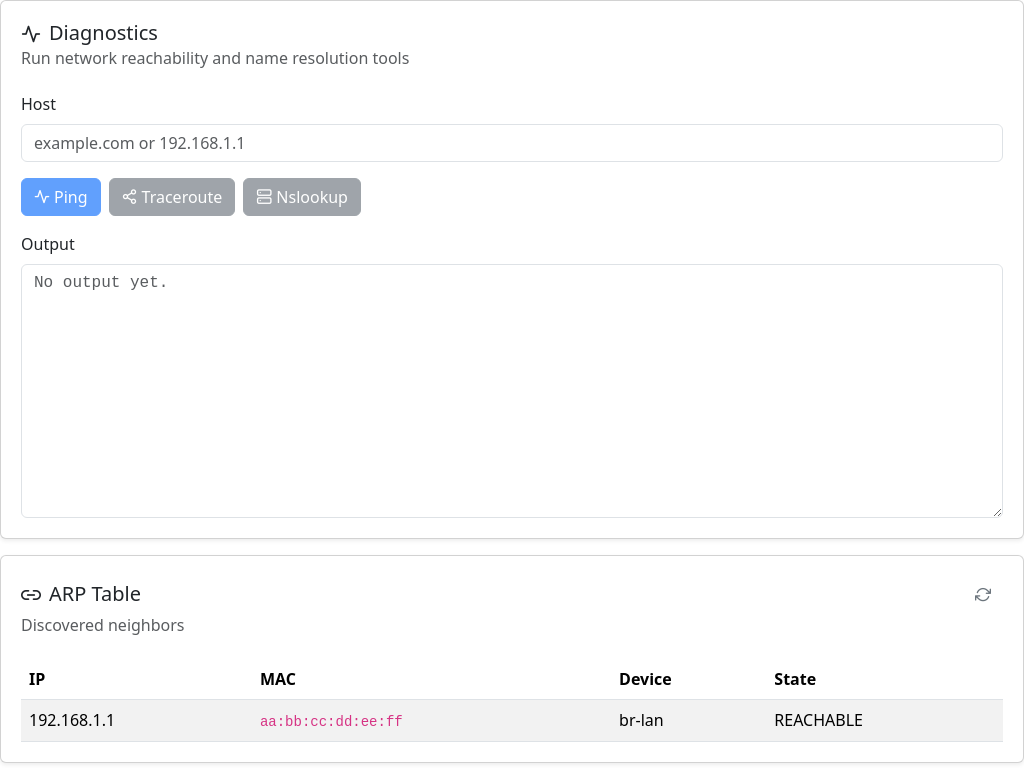
Test: DiagnosticsCard › shows a failure message in the output when the command rejects
In the field labelled "Host": [512, 143] box [21,124,1003,162], type "example.com"
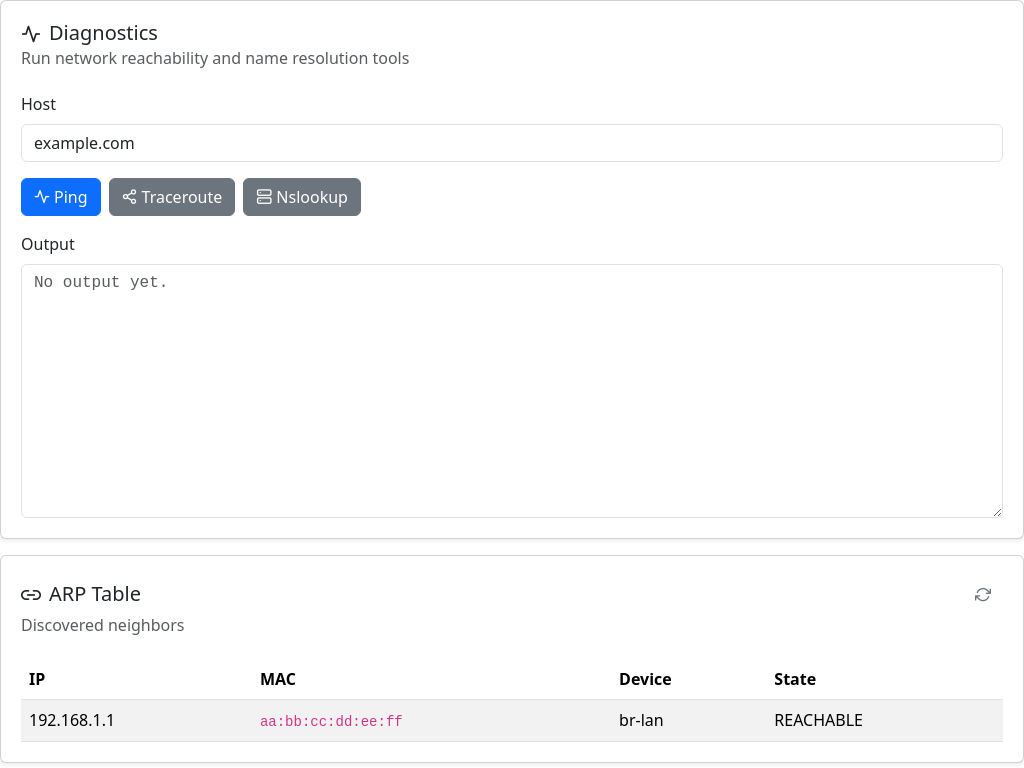
Click the button "Ping": [61, 197] box [21,178,101,216]
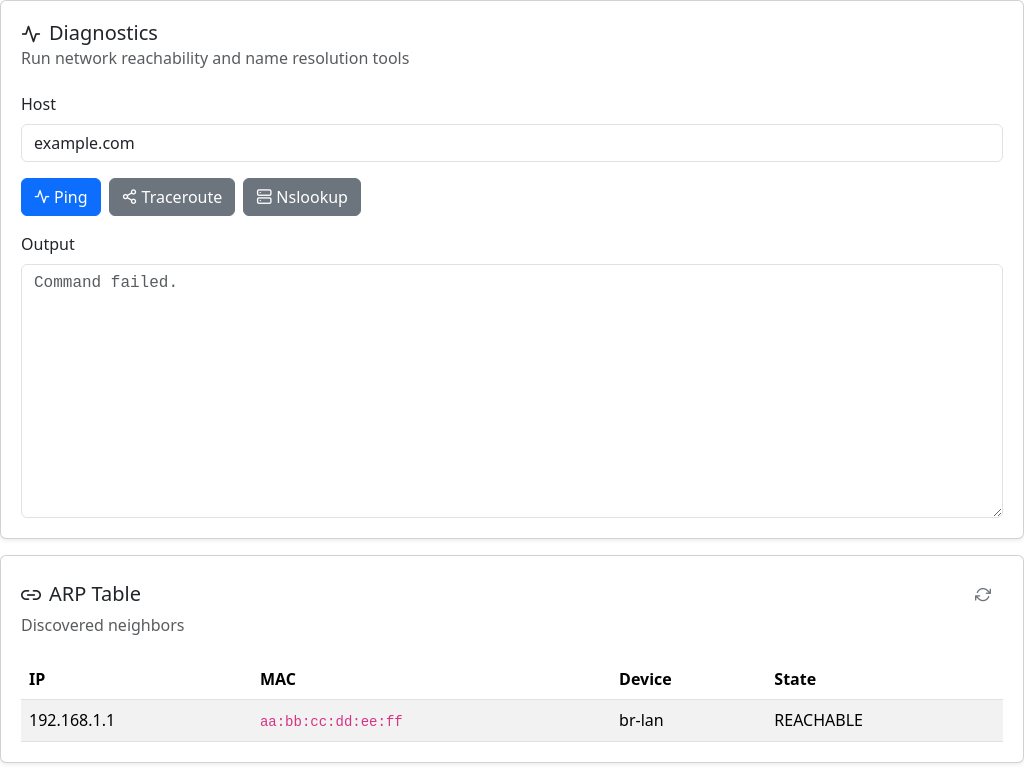
Result: the text box labelled "Output" holds "Command failed." at [21,264,1003,518]
